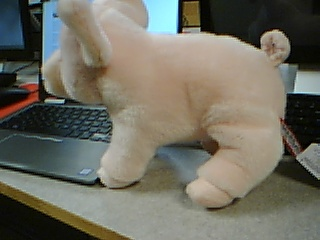piggy: (40, 1, 293, 210)
